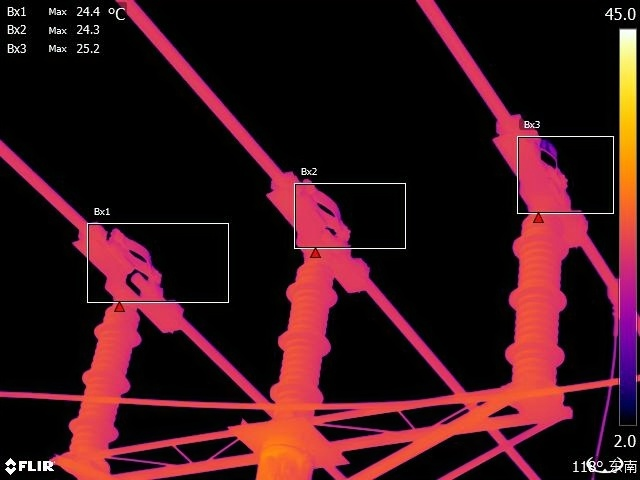post insulator: (496, 205, 570, 390), (64, 297, 146, 453), (266, 256, 342, 414)
